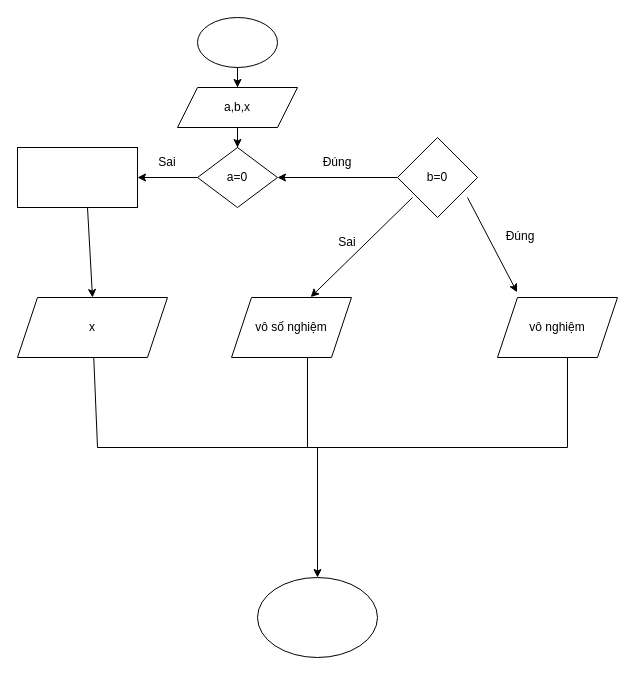
Image size: 635x675. Some labels were removed from this diagram. The centre of each missing label's shape, as x and y in pixels:
"Bắt đầu" goes at point (237, 42).
"End" goes at point (317, 617).
"x=-b/a" goes at point (77, 177).
